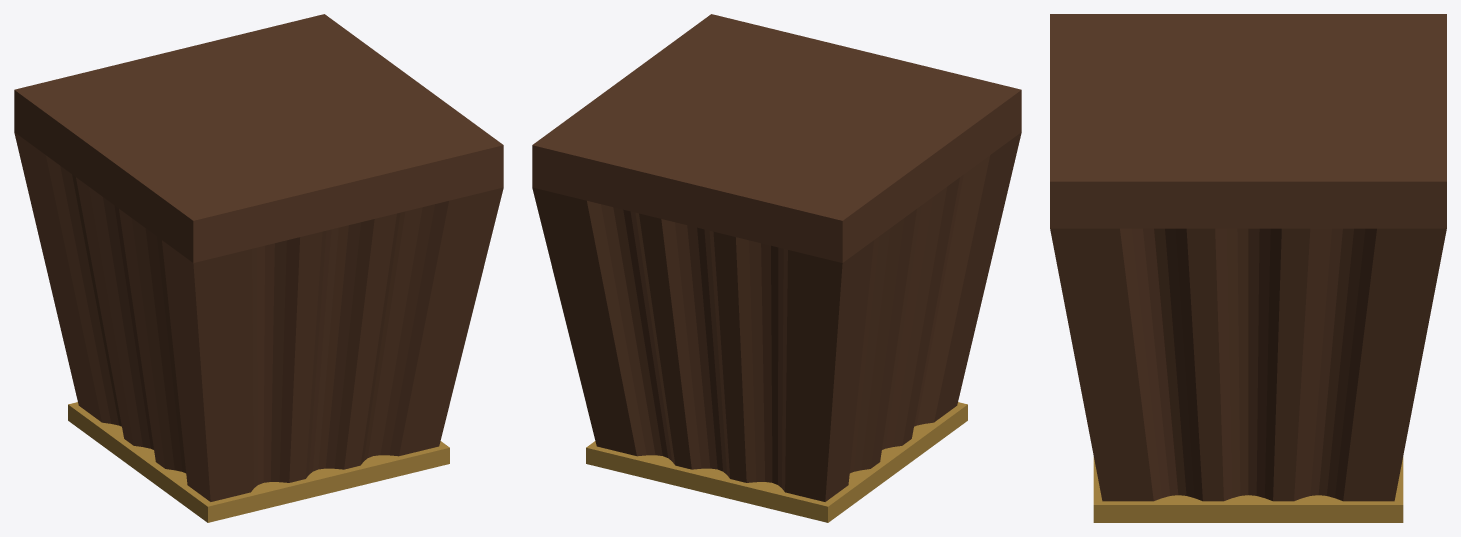
File: furniture.glb
3 views of the same model, side by side, from view 1: azimuth 30°, elevation 25°; view 2: azimuth 150°, elevation 25°; view 3: azimuth 270°, elevation 25° (orthographic). The views are drawn at different scales.
Parts seen in each view (by area): view 1: FlutedLeg, LegBlock, FootCap; view 2: FlutedLeg, LegBlock, FootCap; view 3: FlutedLeg, LegBlock, FootCap.
Boxes of the visible parts, x1,y1,x2,y2 form: FlutedLeg: (14,132,503,501); LegBlock: (14,14,503,262); FootCap: (68,402,449,522); FlutedLeg: (532,132,1021,501); LegBlock: (532,14,1021,262); FootCap: (586,402,967,522); FlutedLeg: (1050,228,1446,501); LegBlock: (1050,14,1446,228); FootCap: (1093,457,1403,522).
Size of the model in its own units: 1 by 1 by 1.
